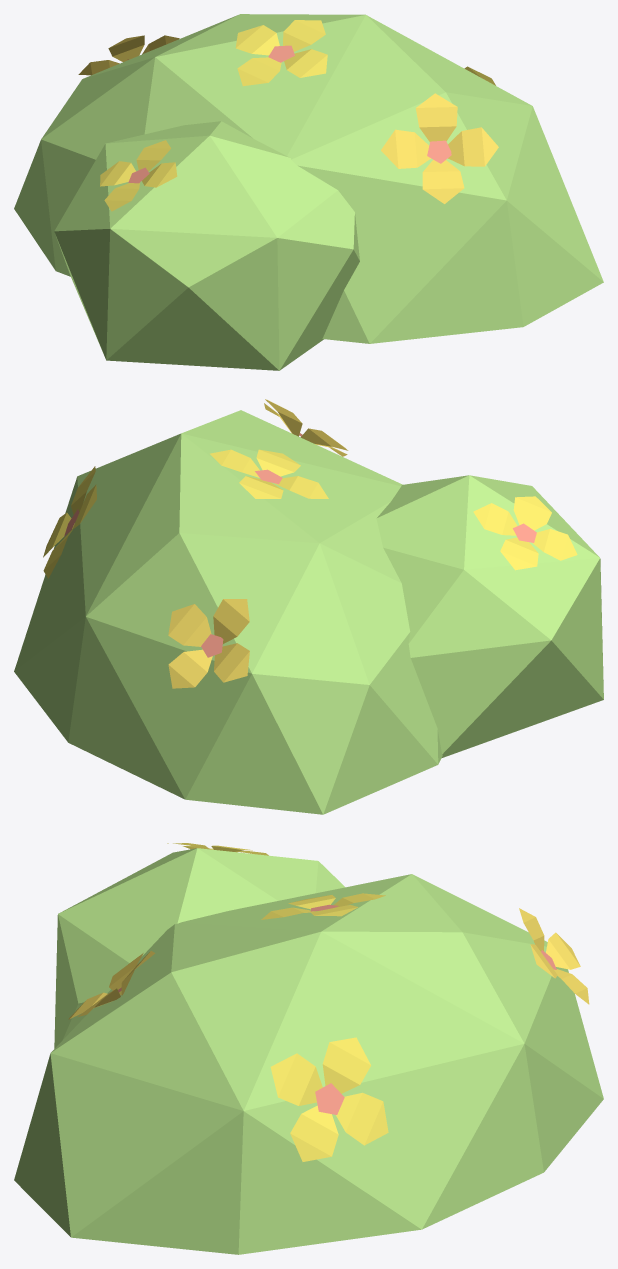
The model's file is FlowerBush_e_m_02.fbx.
3 renders of one model, top to bottom at view 1: azimuth 30°, elevation 25°; view 2: azimuth 150°, elevation 25°; view 3: azimuth 270°, elevation 25°, orthographic. The views are drawn at different scales.
Parts seen in each view (by area): view 1: FlowerBush_e_m_02; view 2: FlowerBush_e_m_02; view 3: FlowerBush_e_m_02.
Boxes of the visible parts, x1=… form: FlowerBush_e_m_02: x1=14, y1=14, x2=603, y2=370; FlowerBush_e_m_02: x1=14, y1=399, x2=603, y2=814; FlowerBush_e_m_02: x1=14, y1=843, x2=603, y2=1254.
Bounding box in the file's own units: 168 × 72.1 × 160.
